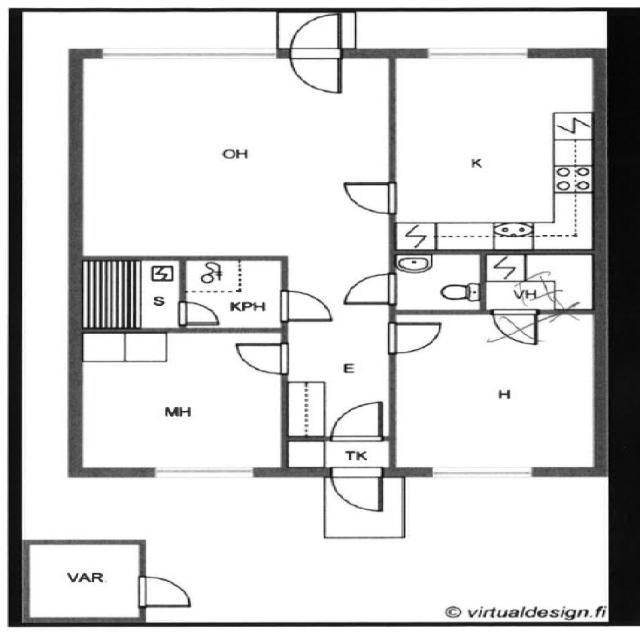door: (76, 258, 183, 332), (182, 258, 285, 332), (284, 11, 346, 95), (125, 569, 202, 611), (326, 467, 387, 518), (327, 398, 386, 442), (336, 180, 402, 218), (289, 54, 348, 96), (230, 340, 294, 377), (386, 318, 446, 356), (275, 289, 336, 323), (342, 271, 401, 306), (176, 298, 226, 328)
window: (91, 43, 279, 70), (414, 39, 537, 66), (422, 461, 544, 484), (143, 462, 264, 483)
zone: (72, 52, 392, 262), (390, 52, 596, 251), (392, 313, 600, 475), (74, 328, 290, 474), (24, 542, 142, 623), (75, 257, 181, 333), (182, 257, 285, 333), (483, 252, 596, 312), (392, 252, 485, 316)
